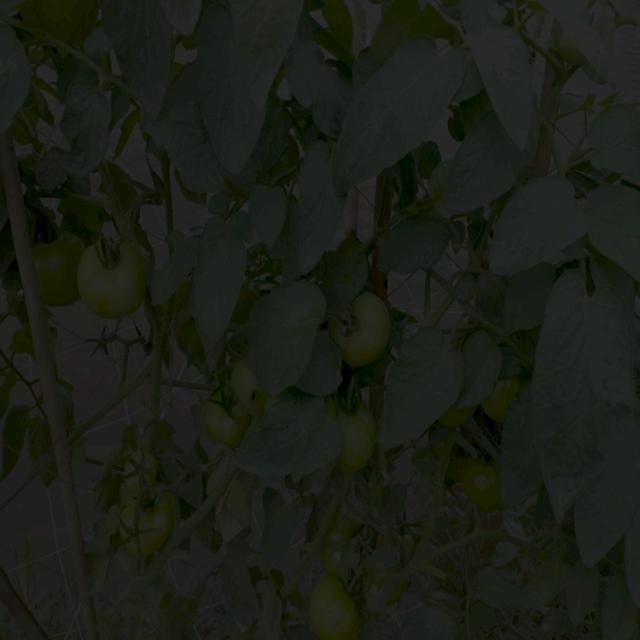tomato: (82, 242, 148, 320), (337, 297, 390, 366), (42, 228, 83, 306), (119, 499, 175, 555), (310, 576, 358, 640), (32, 1, 100, 44), (203, 390, 248, 446), (344, 397, 375, 472), (229, 357, 266, 418), (324, 513, 356, 579), (472, 452, 504, 516), (489, 373, 529, 423), (128, 444, 160, 491)
